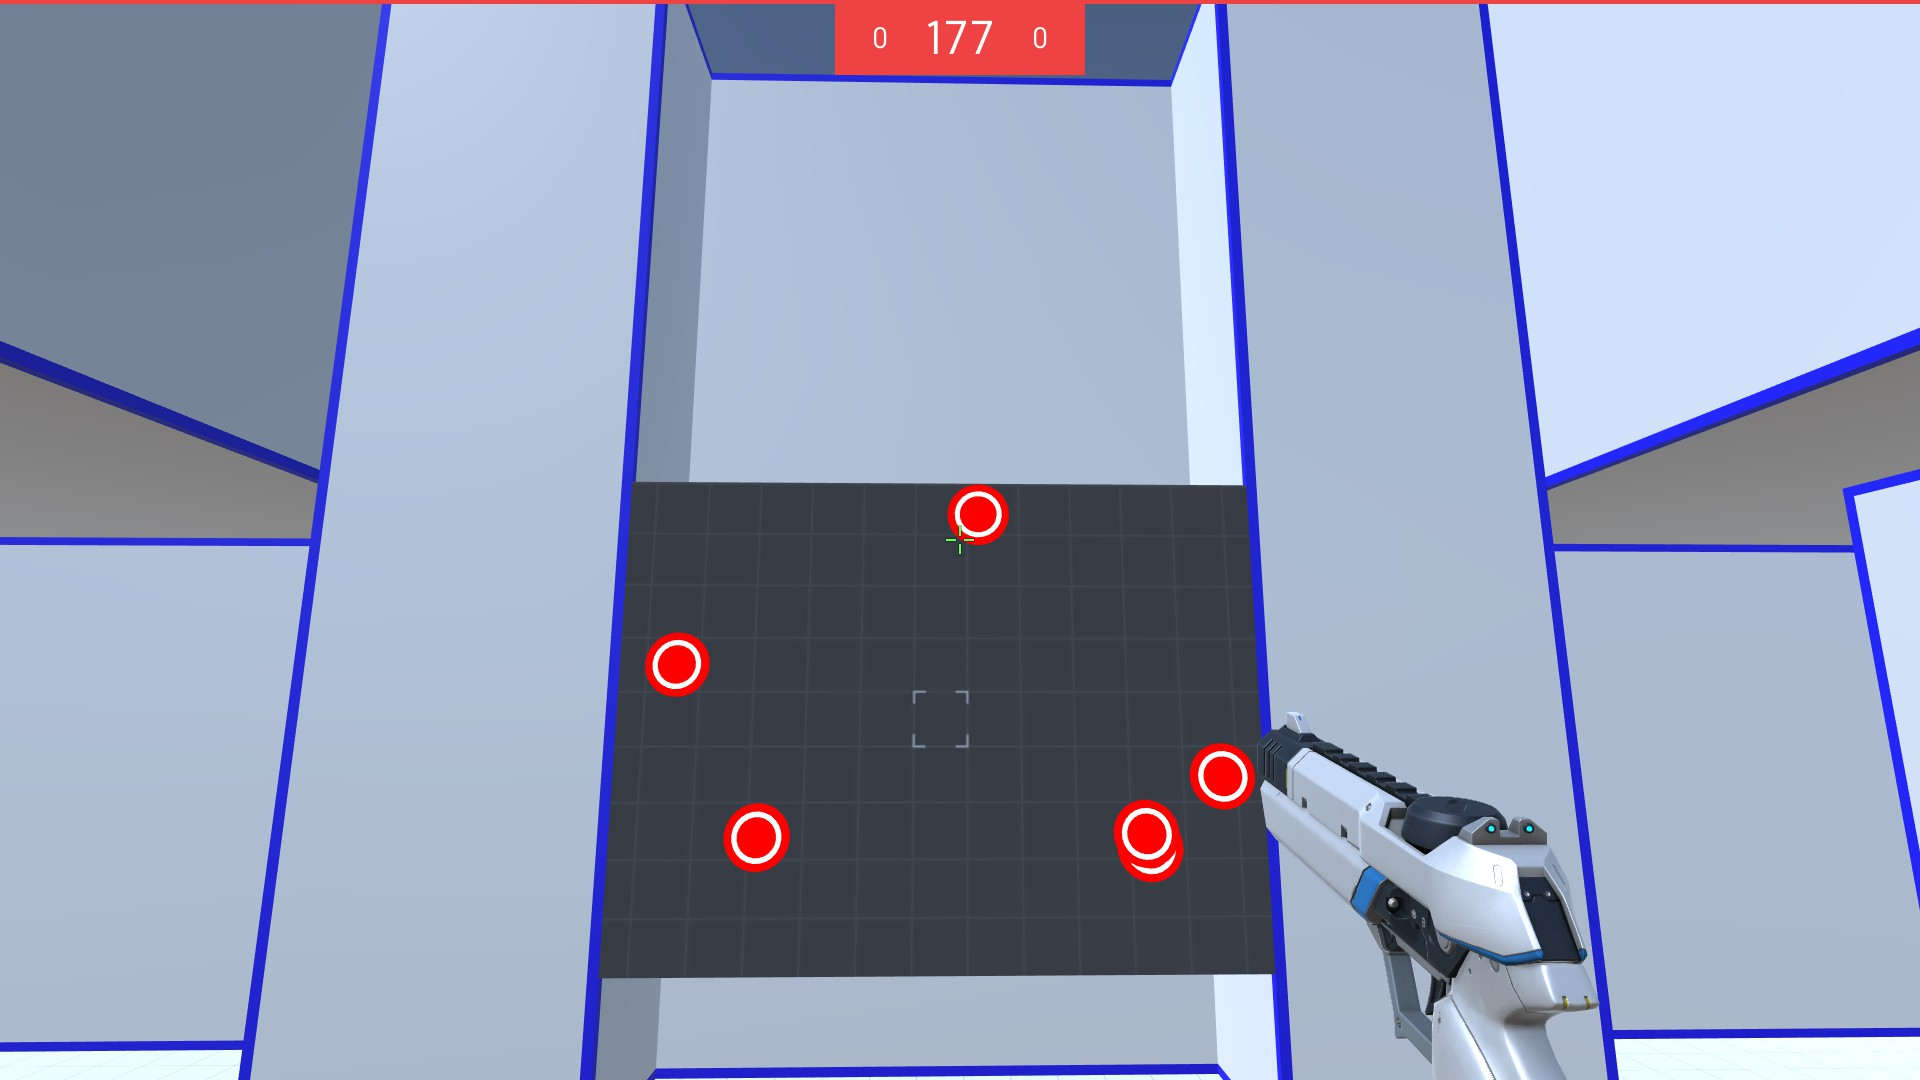target: (717, 799, 791, 872), (642, 632, 713, 702), (1112, 798, 1180, 866), (1188, 742, 1255, 811), (945, 483, 1007, 550), (1120, 849, 1184, 881)
